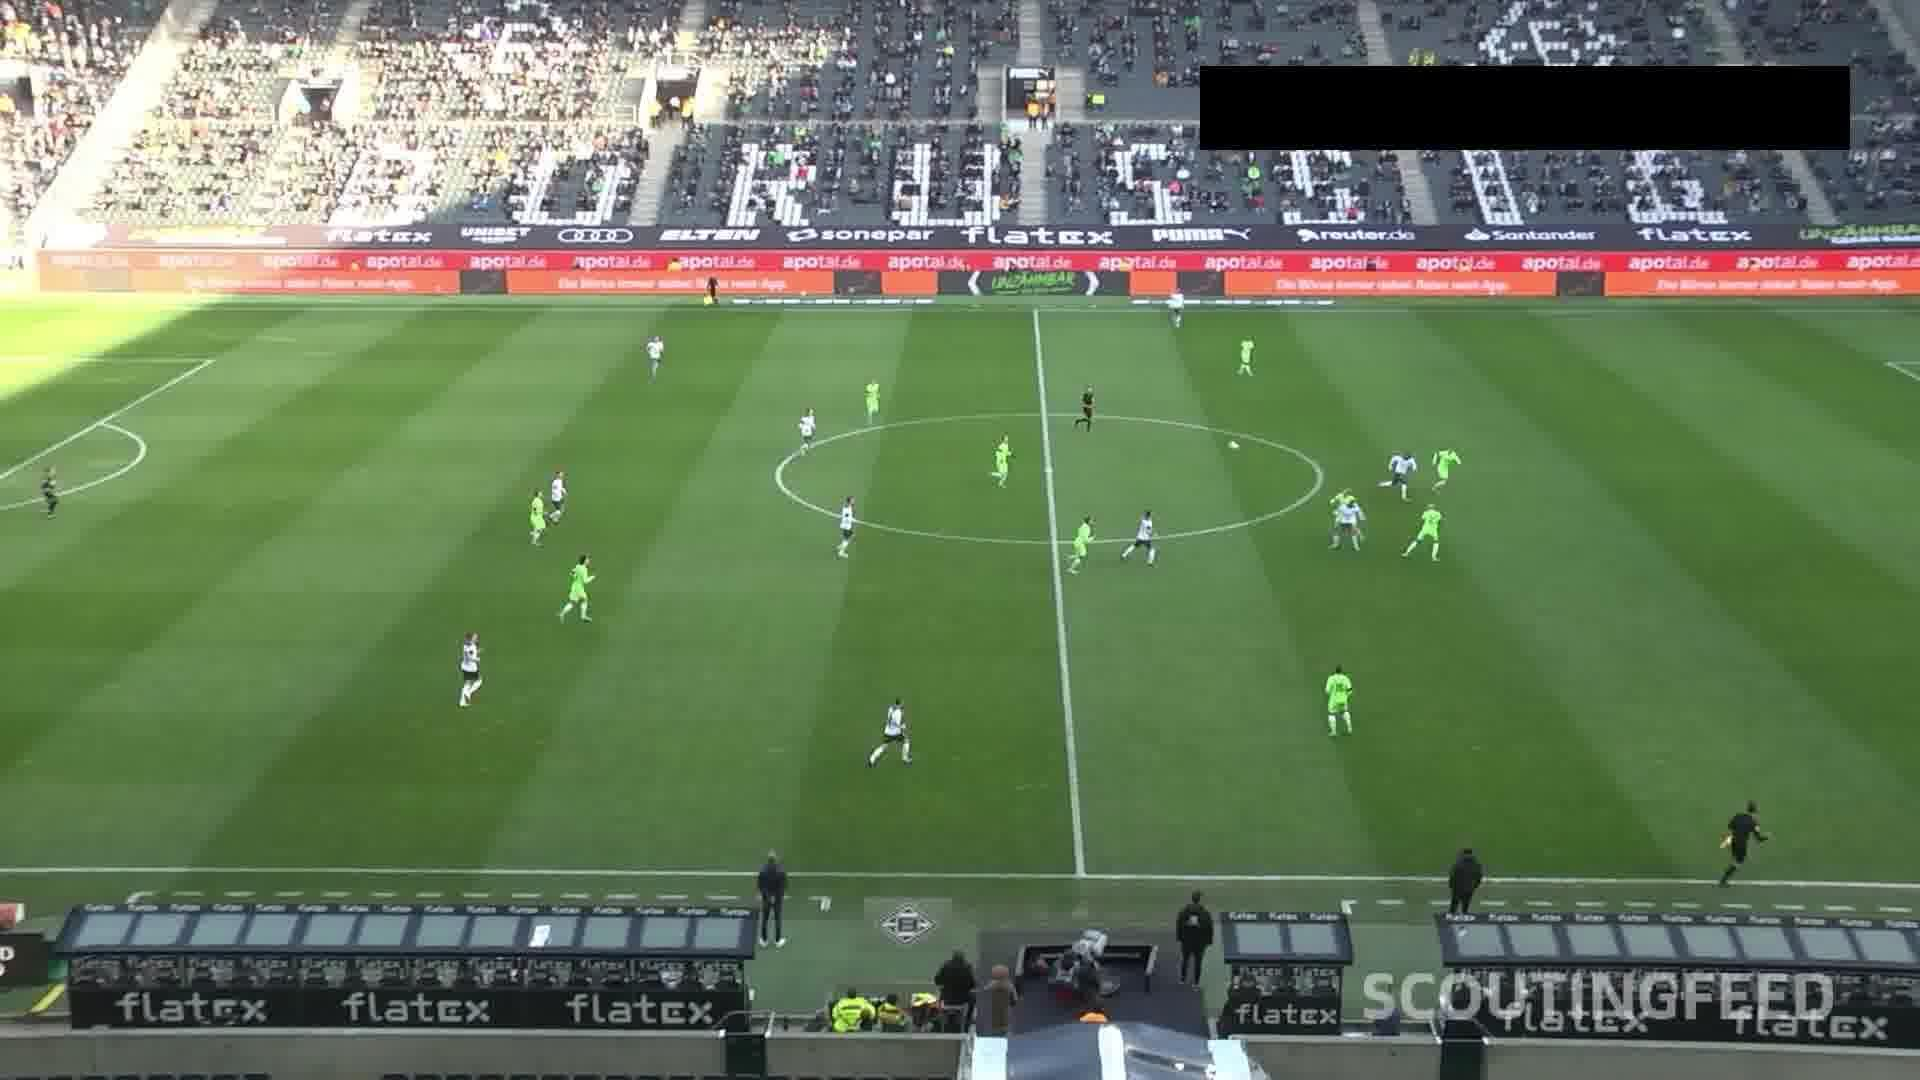football: (1225, 442, 1240, 448)
